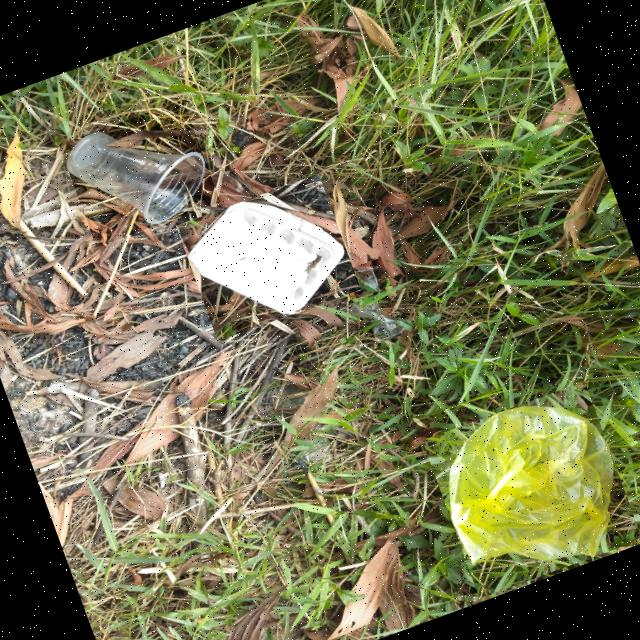Disposable plastic cup: (68, 133, 206, 224)
Meal carton: (189, 202, 347, 315)
Plastic film: (351, 297, 404, 343), (345, 265, 386, 292)
Single-use carrier bag: (450, 405, 614, 565)
